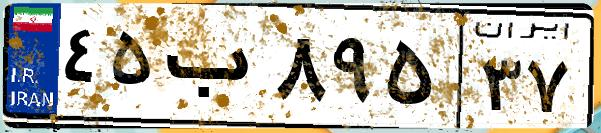3: (475, 38, 525, 113)
4: (57, 26, 110, 100)
5: (385, 28, 445, 110), (110, 28, 158, 98)
7: (525, 38, 570, 115)
8: (270, 28, 330, 110)
9: (330, 28, 385, 110)
ب: (158, 20, 270, 120)
